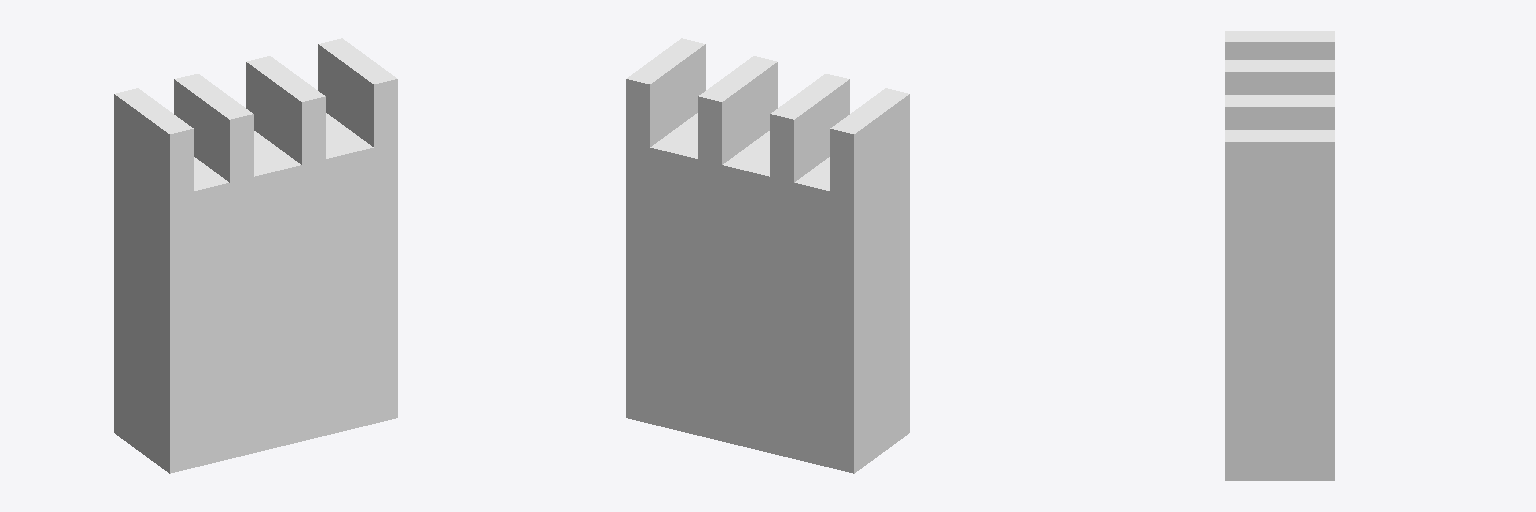
Rendered from mura_2.obj.
3 views of the same model, side by side, from view 1: azimuth 30°, elevation 25°; view 2: azimuth 150°, elevation 25°; view 3: azimuth 270°, elevation 25° (orthographic).
Bounding box in the file's own units: 19 × 27 × 8.